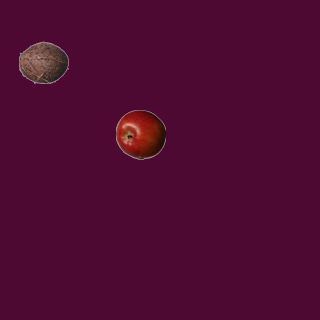Apple Braeburn: (115, 109, 165, 159)
Cocos: (18, 37, 68, 87)
